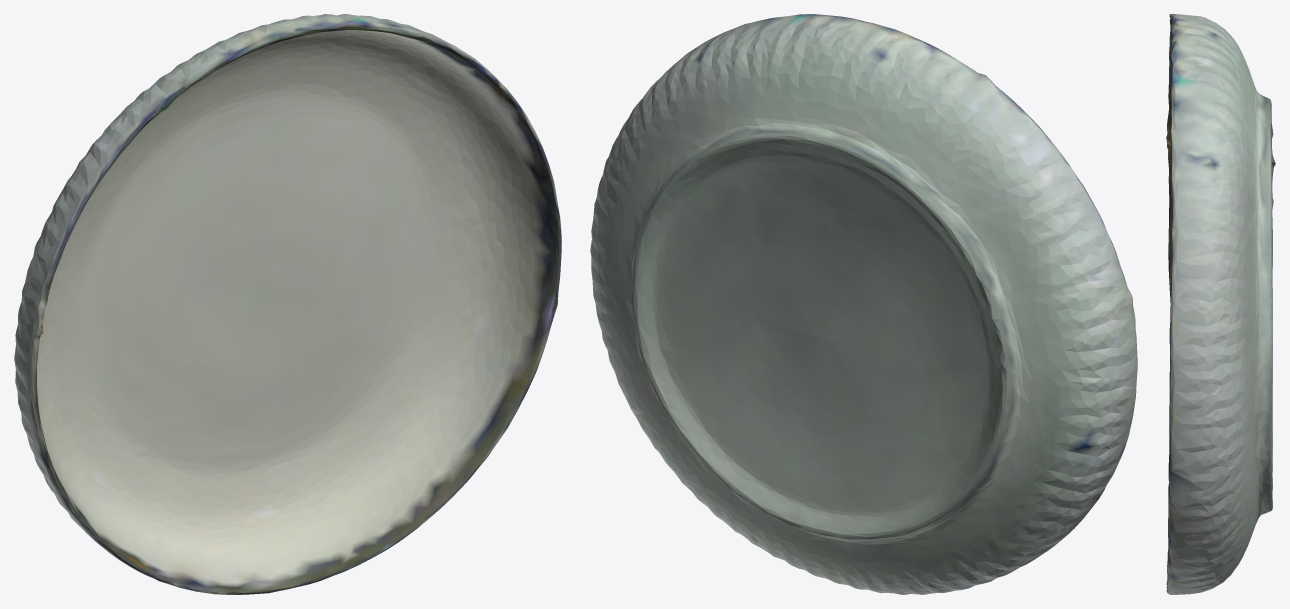
File: scan.obj
The picture shows the model from 3 angles, left to right: view 1: azimuth 30°, elevation 25°; view 2: azimuth 150°, elevation 25°; view 3: azimuth 270°, elevation 25°; orthographic projection. The views are drawn at different scales.
Parts seen in each view (by area): view 1: scan.ply; view 2: scan.ply; view 3: scan.ply.
Boxes of the visible parts, left/top/right/bottom form: scan.ply: left=14, top=14, right=561, bottom=594; scan.ply: left=590, top=14, right=1137, bottom=594; scan.ply: left=1166, top=14, right=1275, bottom=594.
Size of the model in its own units: 0.2069 by 0.207 by 0.0389.
